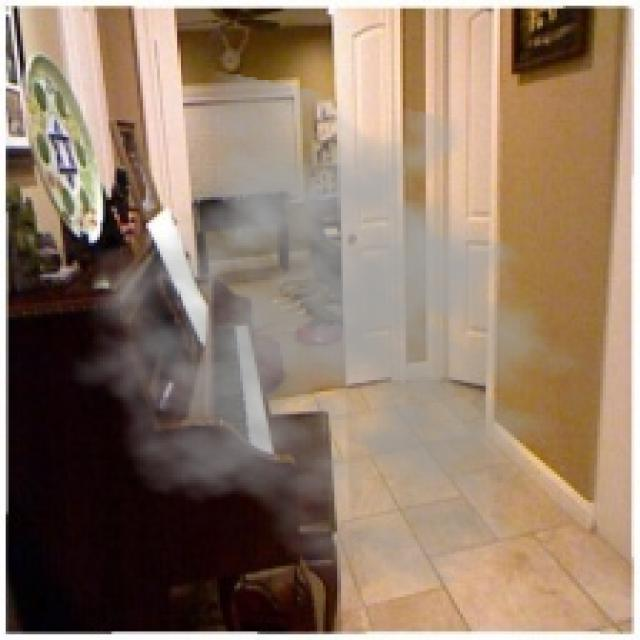Smoke: (68, 68, 603, 598)
